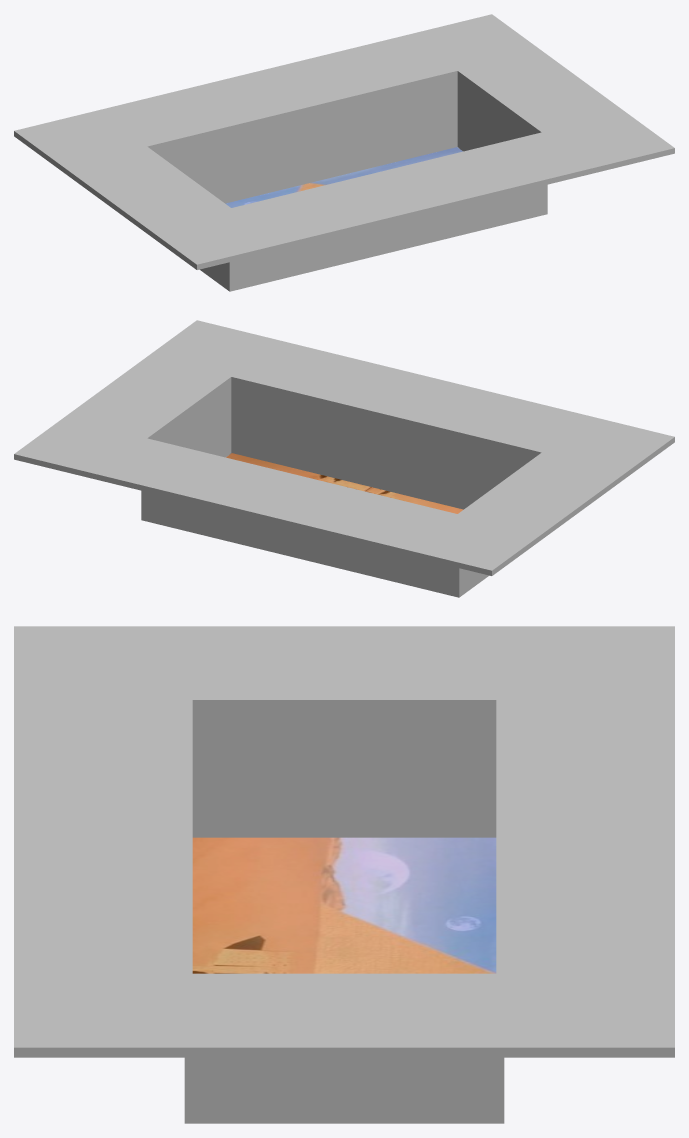
File: whirlpool_bins_abydos_2.dae
3 renders of one model, top to bottom at view 1: azimuth 30°, elevation 25°; view 2: azimuth 150°, elevation 25°; view 3: azimuth 270°, elevation 25°, orthographic. The views are drawn at different scales.
Parts seen in each view (by area): view 1: Bin Abydos 2; view 2: Bin Abydos 2; view 3: Bin Abydos 2.
Boxes of the visible parts, x1,y1,x2,y2 form: Bin Abydos 2: [14, 14, 674, 291]; Bin Abydos 2: [14, 320, 674, 597]; Bin Abydos 2: [14, 626, 674, 1123].
Bounding box in the file's own units: 0.9146 × 0.6063 × 0.1484.
2 materials, 1 textured.
